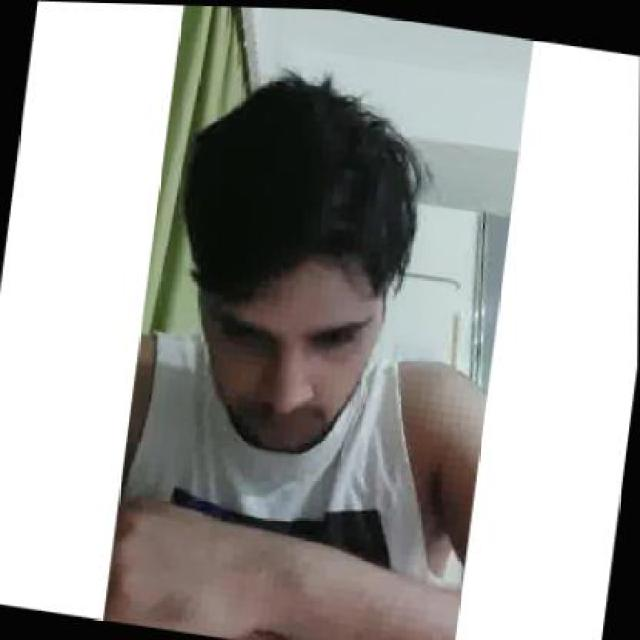inattentif: (162, 59, 413, 466)
